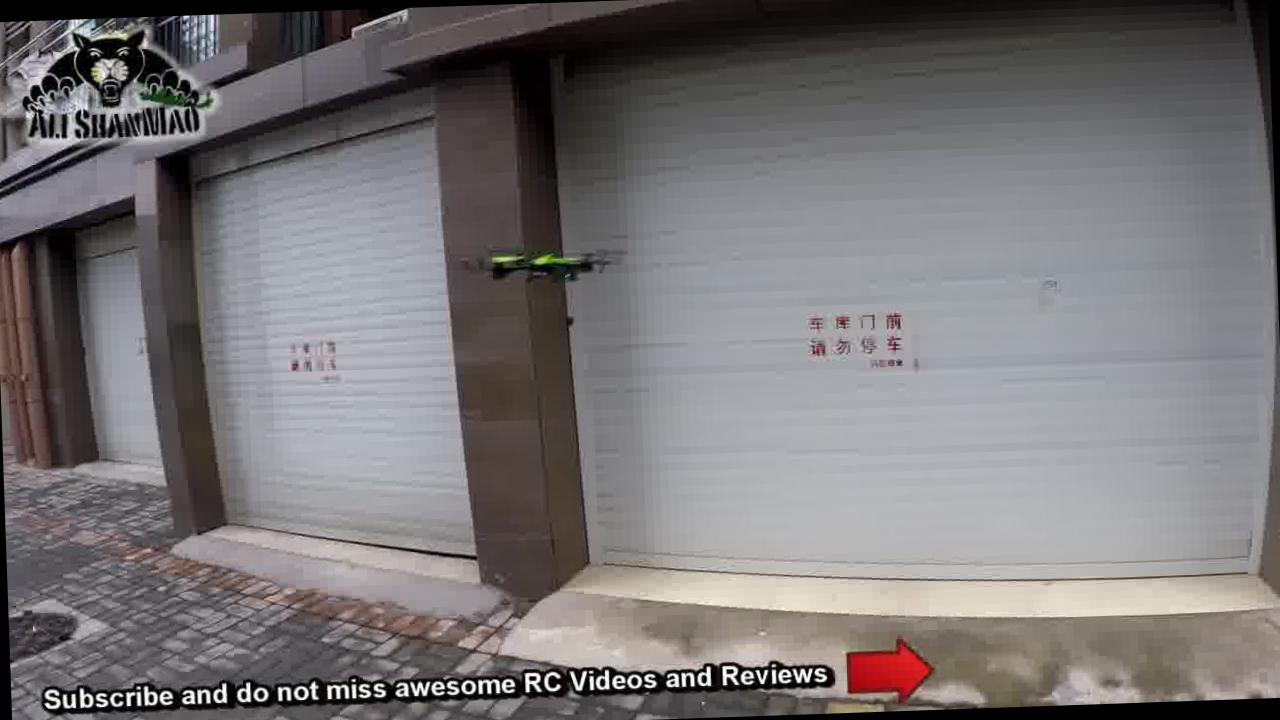drone: (448, 225, 642, 292)
